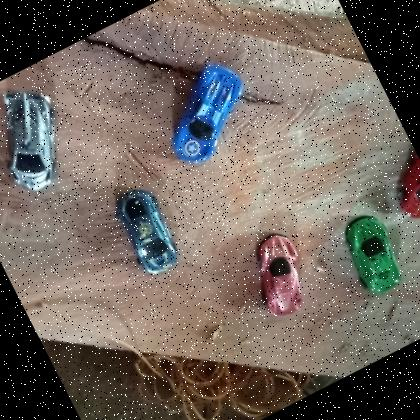Car: (145, 53, 269, 173), (0, 75, 86, 200), (238, 227, 322, 324), (108, 182, 188, 281), (333, 207, 415, 302)
